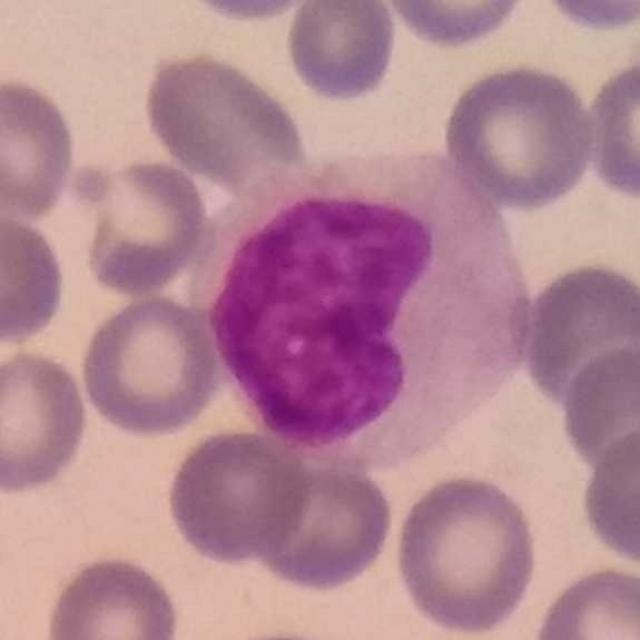mono: (183, 139, 539, 476)
